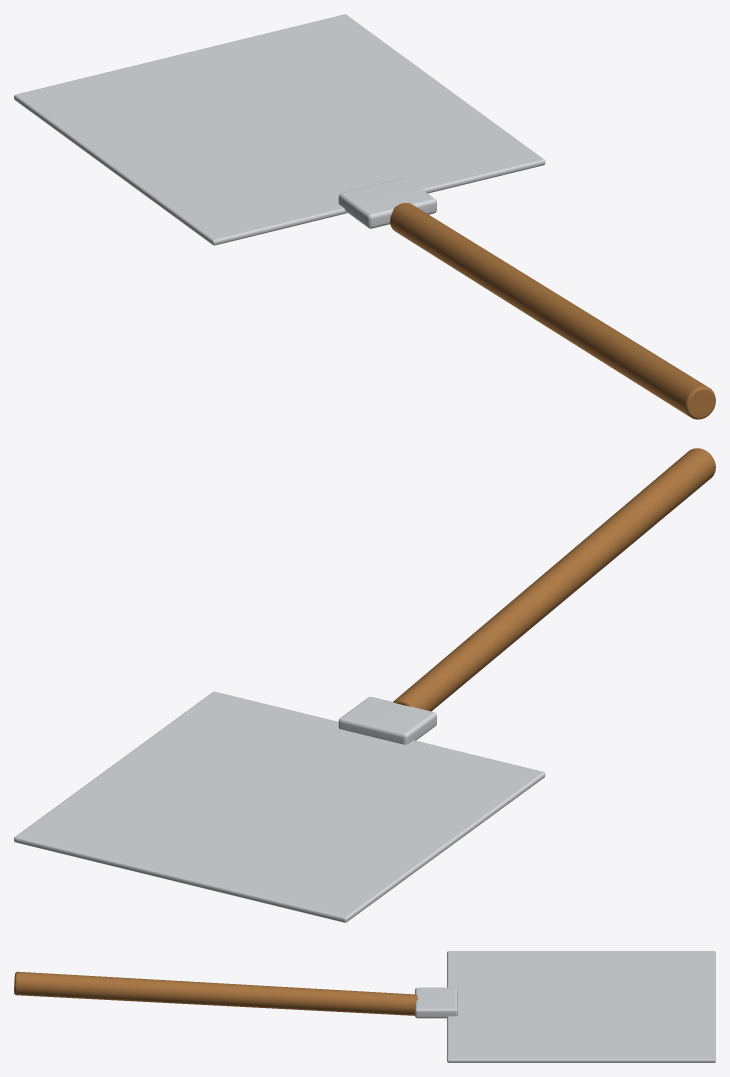
Rendered from pizza-peel.glb.
3 views of the same model, one above another, from view 1: azimuth 30°, elevation 25°; view 2: azimuth 150°, elevation 25°; view 3: azimuth 270°, elevation 25° (orthographic). The views are drawn at different scales.
Parts seen in each view (by area): view 1: Blade, Handle, Blade collar; view 2: Blade, Handle, Blade collar; view 3: Blade, Handle, Blade collar.
Boxes of the visible parts, box(x1,y1,x2,y2) form: Blade: box(14, 14, 545, 245); Handle: box(390, 203, 715, 419); Blade collar: box(338, 178, 436, 228); Blade: box(14, 691, 545, 922); Handle: box(393, 448, 715, 711); Blade collar: box(338, 697, 436, 744); Blade: box(447, 951, 715, 1062); Handle: box(14, 971, 417, 1015); Blade collar: box(415, 987, 457, 1018).
Size of the model in its own units: 0.48 by 0.0864 by 1.31.
